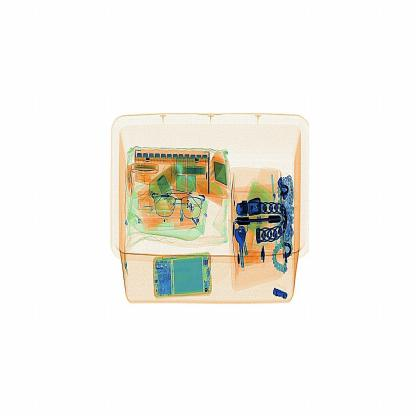knife: (231, 210, 286, 232)
